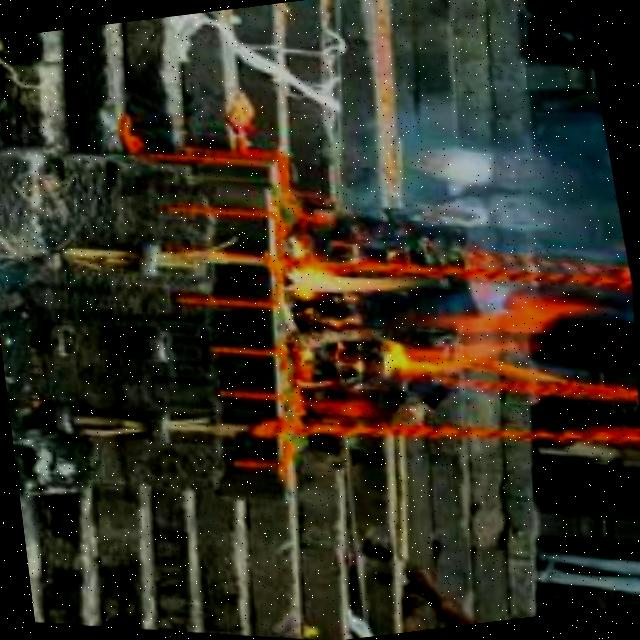fire: (272, 221, 598, 430)
